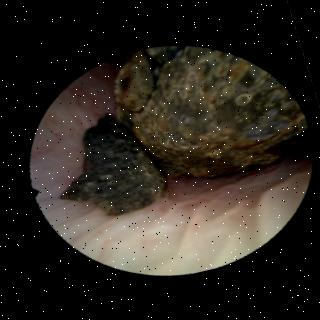stone: (110, 46, 306, 178), (56, 105, 163, 214)
